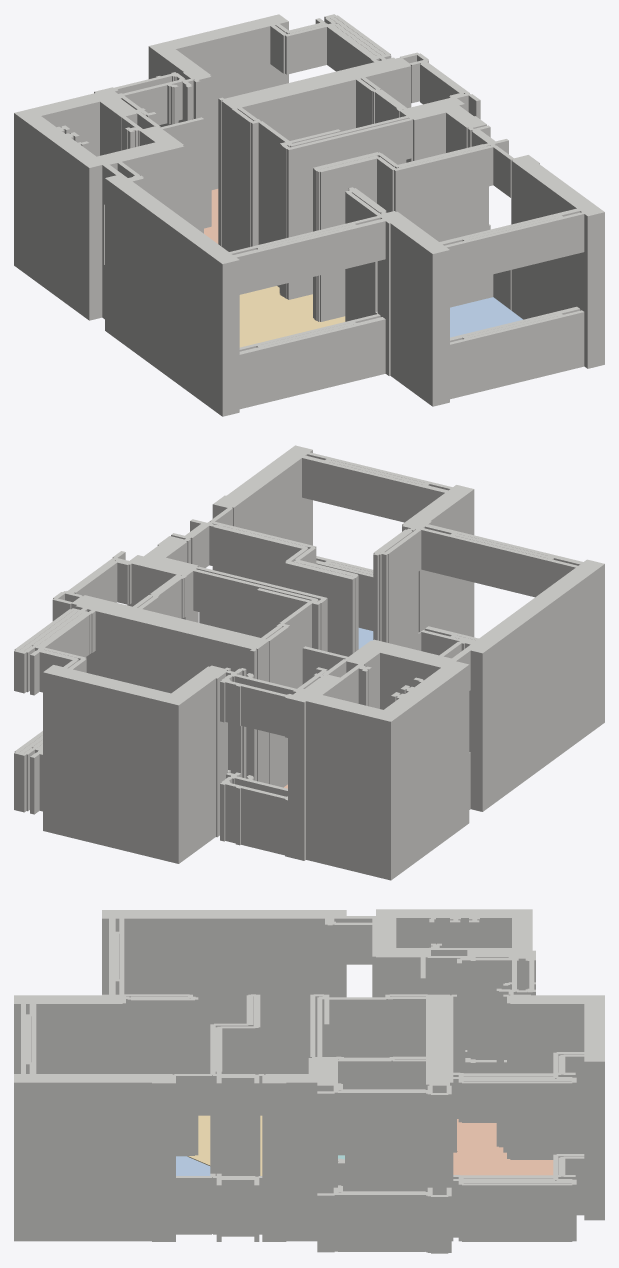
The picture shows the model from 3 angles, top to bottom: view 1: azimuth 30°, elevation 25°; view 2: azimuth 150°, elevation 25°; view 3: azimuth 270°, elevation 25°; orthographic projection. The views are drawn at different scales.
Visible parts, largest first — view 1: walls, room:living:4, room:bedroom:5; view 2: walls; view 3: walls, room:kitchen:0, room:living:4, room:bedroom:5.
Part boxes in pixels (x1,y1,x2,y2): walls: [14, 14, 604, 416]; room:living:4: [239, 286, 345, 347]; room:bedroom:5: [450, 297, 522, 337]; walls: [14, 445, 604, 880]; walls: [14, 909, 604, 1253]; room:kitchen:0: [453, 1119, 553, 1175]; room:living:4: [188, 1115, 262, 1175]; room:bedroom:5: [176, 1156, 210, 1175].
Size of the model in its own units: 7.02 by 2.8 by 9.45.
